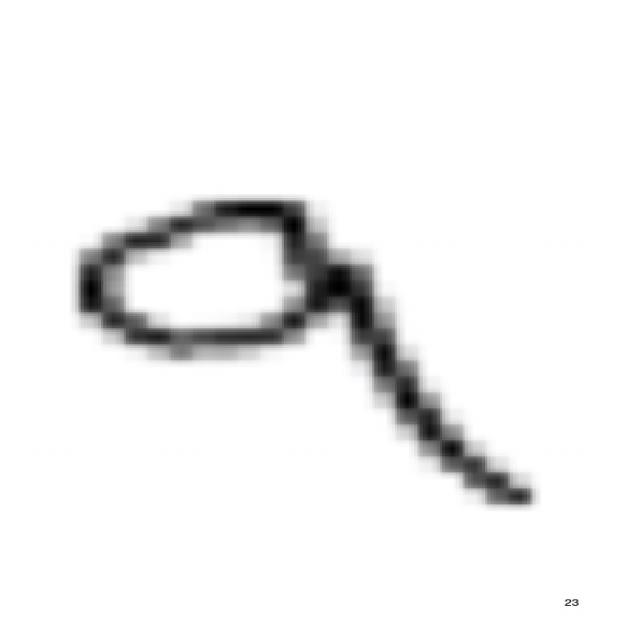9 -nine-: (54, 175, 551, 519)
